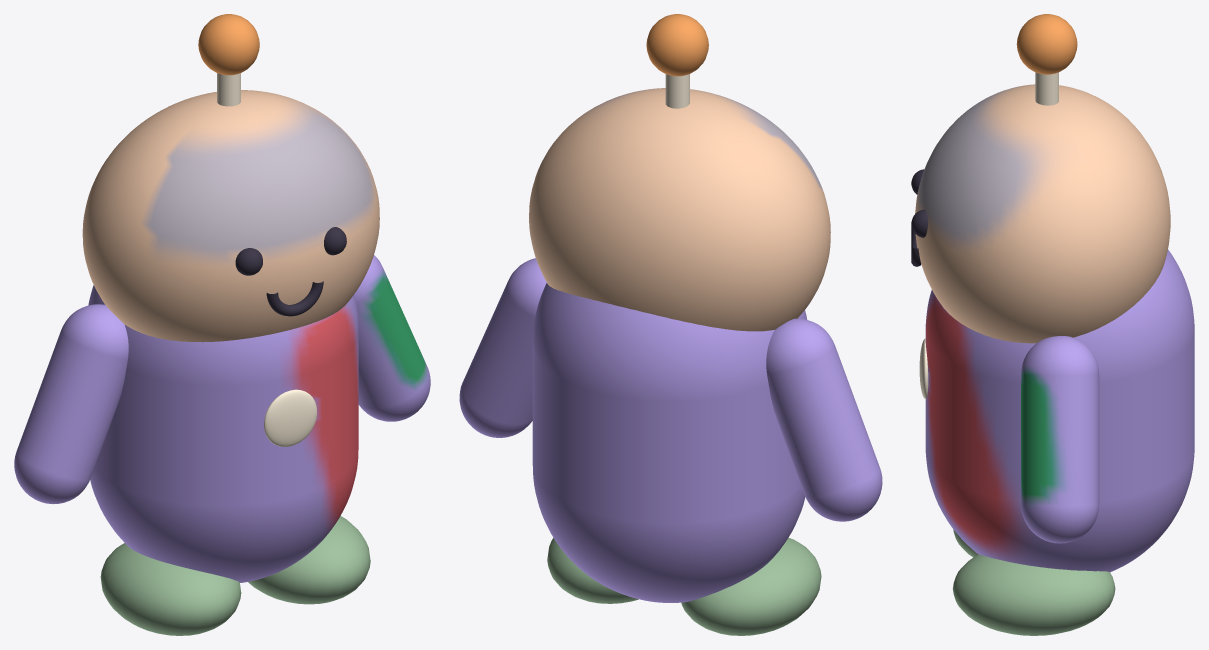
Rendered from painted-buddy.glb.
3 views of the same model, side by side, from view 1: azimuth 30°, elevation 25°; view 2: azimuth 150°, elevation 25°; view 3: azimuth 270°, elevation 25° (orthographic). The views are drawn at different scales.
Parts seen in each view (by area): view 1: Face, Body, Left arm, Left boot, Right arm, Right boot, Antenna tip, Badge, Smile, Antenna, Left eye; view 2: Body, Face, Left arm, Right arm, Left boot, Antenna tip, Right boot, Antenna; view 3: Face, Body, Right arm, Right boot, Antenna tip, Antenna, Badge.
Boxes of the visible parts, x1=… form: Face: x1=82, y1=90, x2=379, y2=342; Body: x1=88, y1=285, x2=358, y2=582; Left arm: x1=14, y1=304, x2=128, y2=504; Left boot: x1=100, y1=543, x2=241, y2=635; Right arm: x1=354, y1=255, x2=430, y2=421; Right boot: x1=248, y1=516, x2=370, y2=604; Antenna tip: x1=198, y1=14, x2=259, y2=75; Badge: x1=264, y1=389, x2=317, y2=446; Smile: x1=266, y1=281, x2=323, y2=316; Antenna: x1=217, y1=73, x2=240, y2=106; Left eye: x1=235, y1=248, x2=262, y2=275; Body: x1=532, y1=283, x2=807, y2=602; Face: x1=529, y1=88, x2=830, y2=331; Left arm: x1=766, y1=318, x2=882, y2=521; Right arm: x1=459, y1=258, x2=546, y2=437; Left boot: x1=681, y1=537, x2=821, y2=635; Antenna tip: x1=646, y1=14, x2=708, y2=76; Right boot: x1=547, y1=538, x2=638, y2=603; Antenna: x1=665, y1=74, x2=689, y2=108; Face: x1=915, y1=84, x2=1170, y2=343; Body: x1=925, y1=249, x2=1194, y2=572; Right arm: x1=1021, y1=336, x2=1099, y2=543; Right boot: x1=952, y1=554, x2=1115, y2=635; Antenna tip: x1=1016, y1=14, x2=1077, y2=74; Antenna: x1=1035, y1=72, x2=1058, y2=105; Badge: x1=919, y1=338, x2=928, y2=398.
Bounding box in the file's own units: 2.13 × 2.95 × 1.31.
